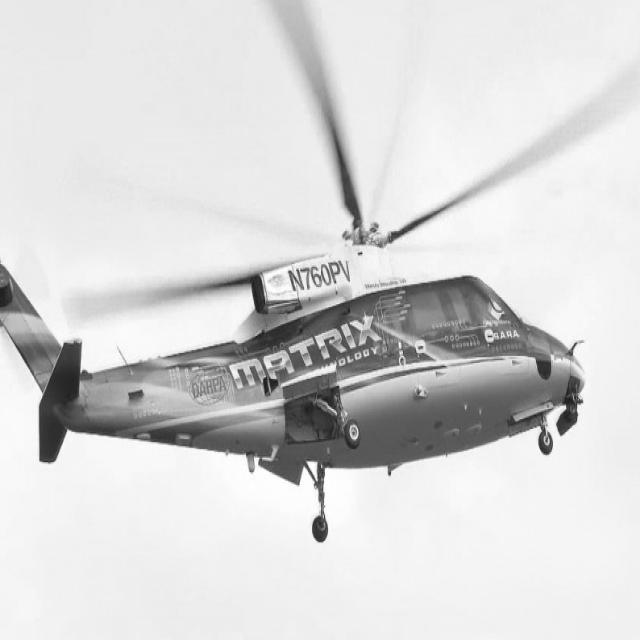helicopter: (4, 1, 591, 552)
